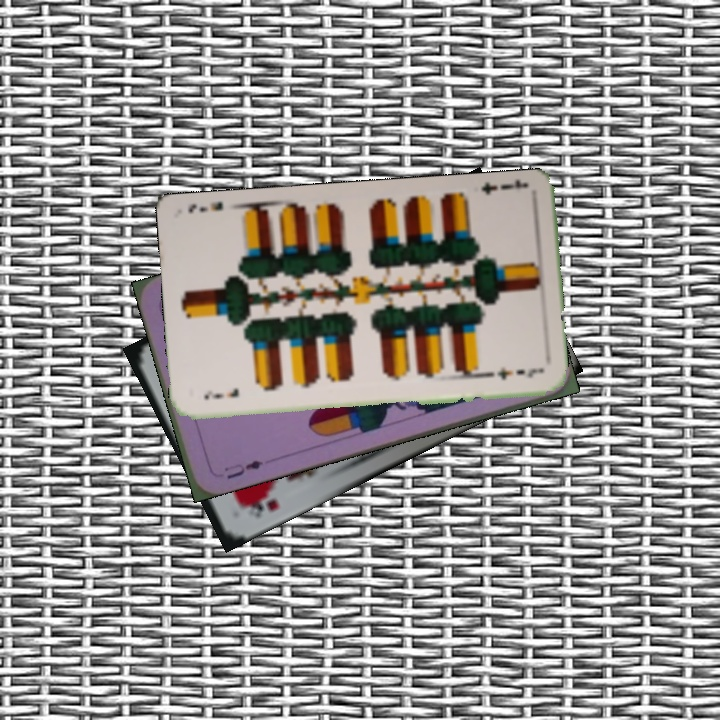E7: (477, 177, 529, 197), (200, 385, 242, 402)
EU: (220, 456, 266, 482)
HK: (237, 491, 281, 521)
